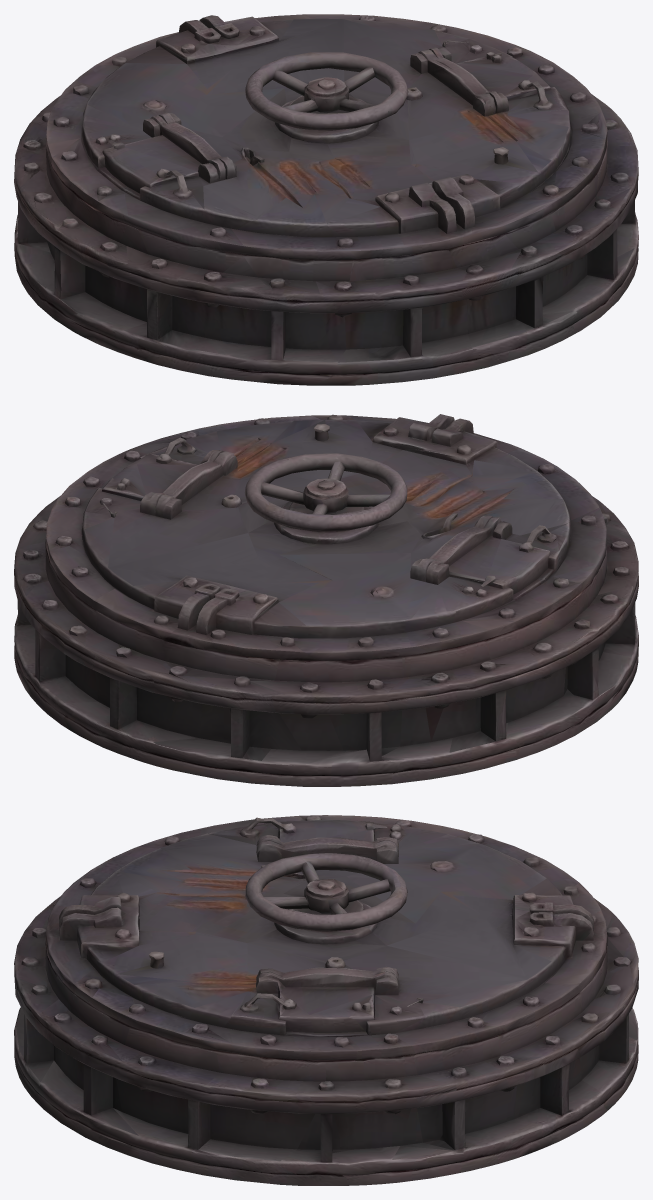
The model's file is hatch_bunker_lyuk_s_kolesom.glb.
3 views of the same model, one above another, from view 1: azimuth 30°, elevation 25°; view 2: azimuth 150°, elevation 25°; view 3: azimuth 270°, elevation 25° (orthographic).
Visible parts, largest first — view 1: body, lid; view 2: body, lid; view 3: body, lid.
Boxes of the visible parts, x1=… form: body: x1=14, y1=14, x2=638, y2=385; lid: x1=60, y1=15, x2=592, y2=245; body: x1=14, y1=414, x2=638, y2=786; lid: x1=60, y1=414, x2=592, y2=646; body: x1=14, y1=815, x2=638, y2=1185; lid: x1=61, y1=817, x2=591, y2=1045.
Size of the model in its own units: 1 by 0.3029 by 1.
4 materials, 3 textured.
